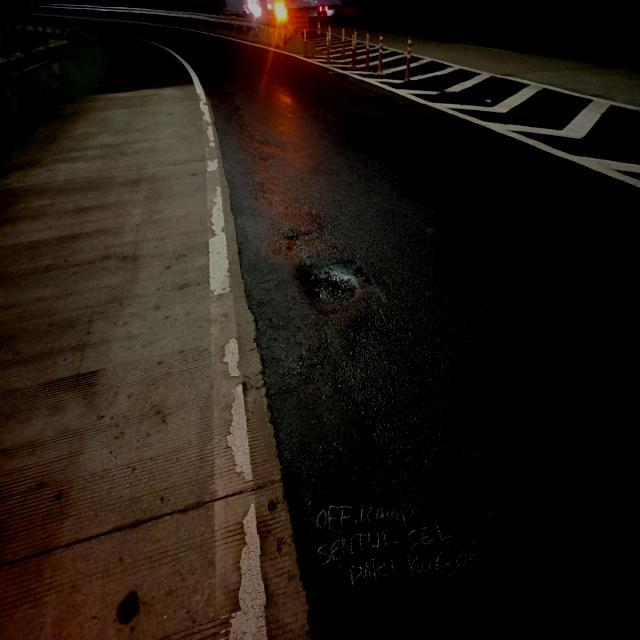Buraco: (288, 254, 390, 322), (209, 86, 275, 149), (275, 208, 336, 254)
